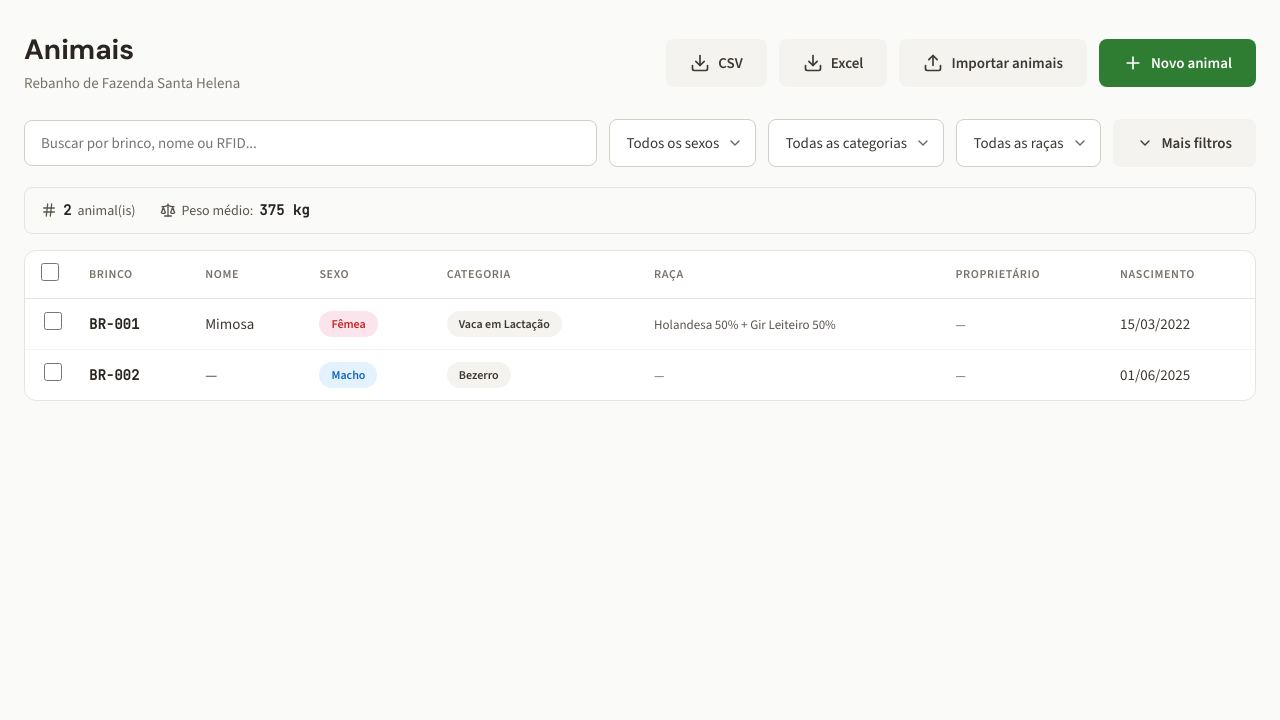
AnimalsPage › should toggle advanced filters panel on click
The width and height of the screenshot is (1280, 720).
Check: the field labelled "Origem" is not shown
Click to expand
Click the button "Mais filtros". click: {"x": 1185, "y": 143}
box: 1113,119 -> 1256,167
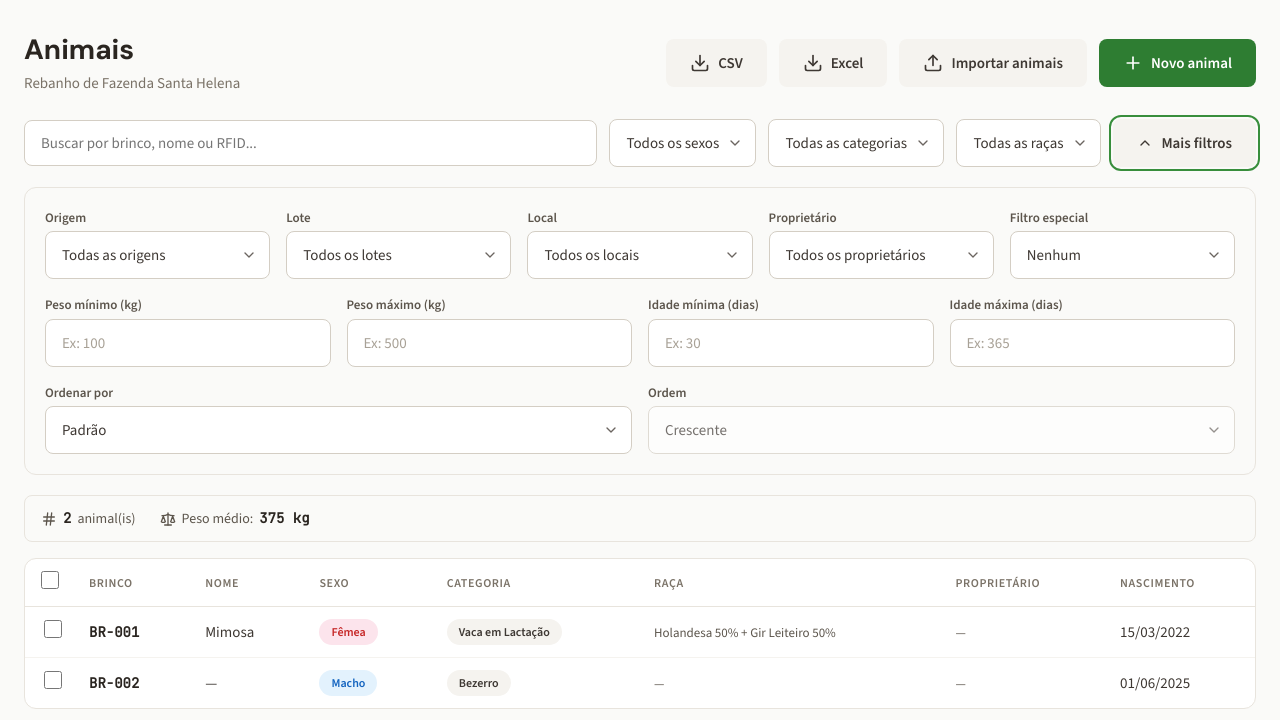
Check: the dropdown labelled "Origem" is shown, box 45,231 -> 270,279
Check: the dropdown labelled "Lote" is shown, box 286,231 -> 511,279
Check: the number field labelled "Peso mínimo (kg)" is shown, box 45,319 -> 330,367
Click to collapse
Click the button "Mais filtros". click: {"x": 1185, "y": 143}
box: 1113,119 -> 1256,167
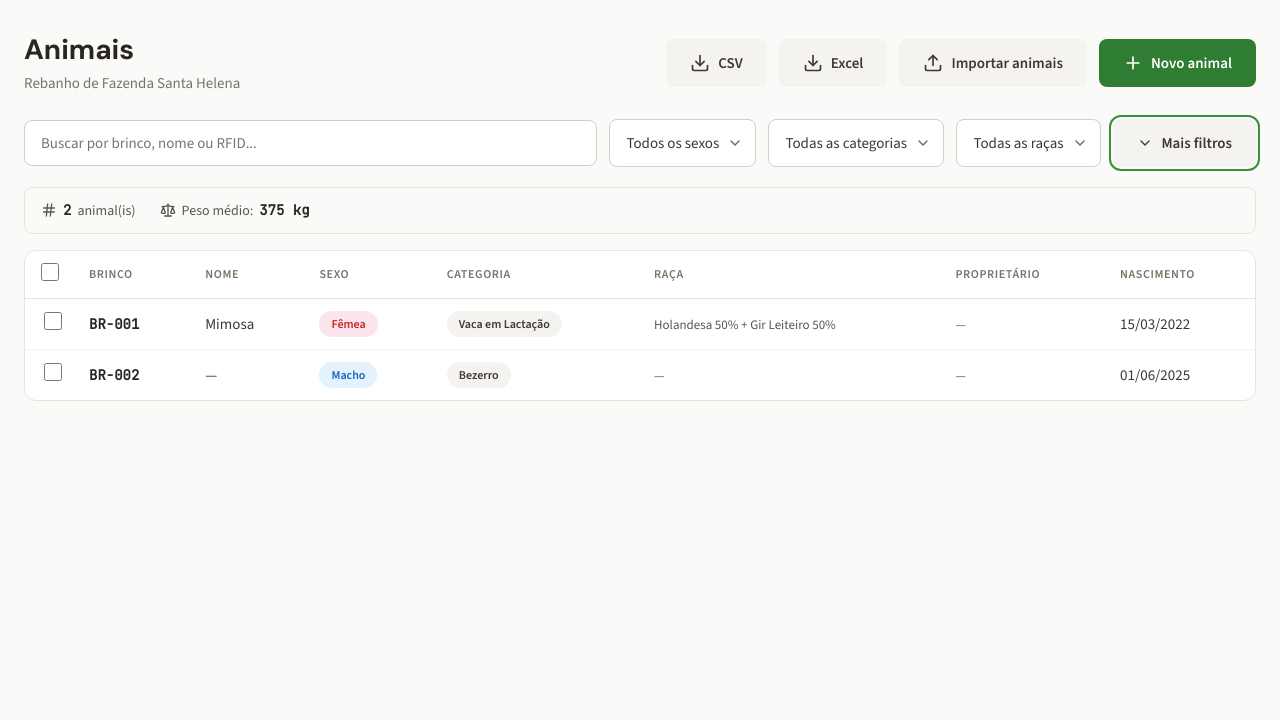
Check: the label labelled "Origem" is gone
